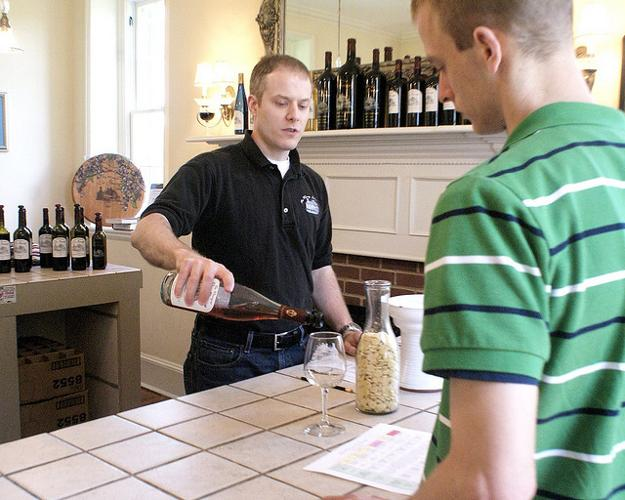person: (131, 54, 365, 396)
